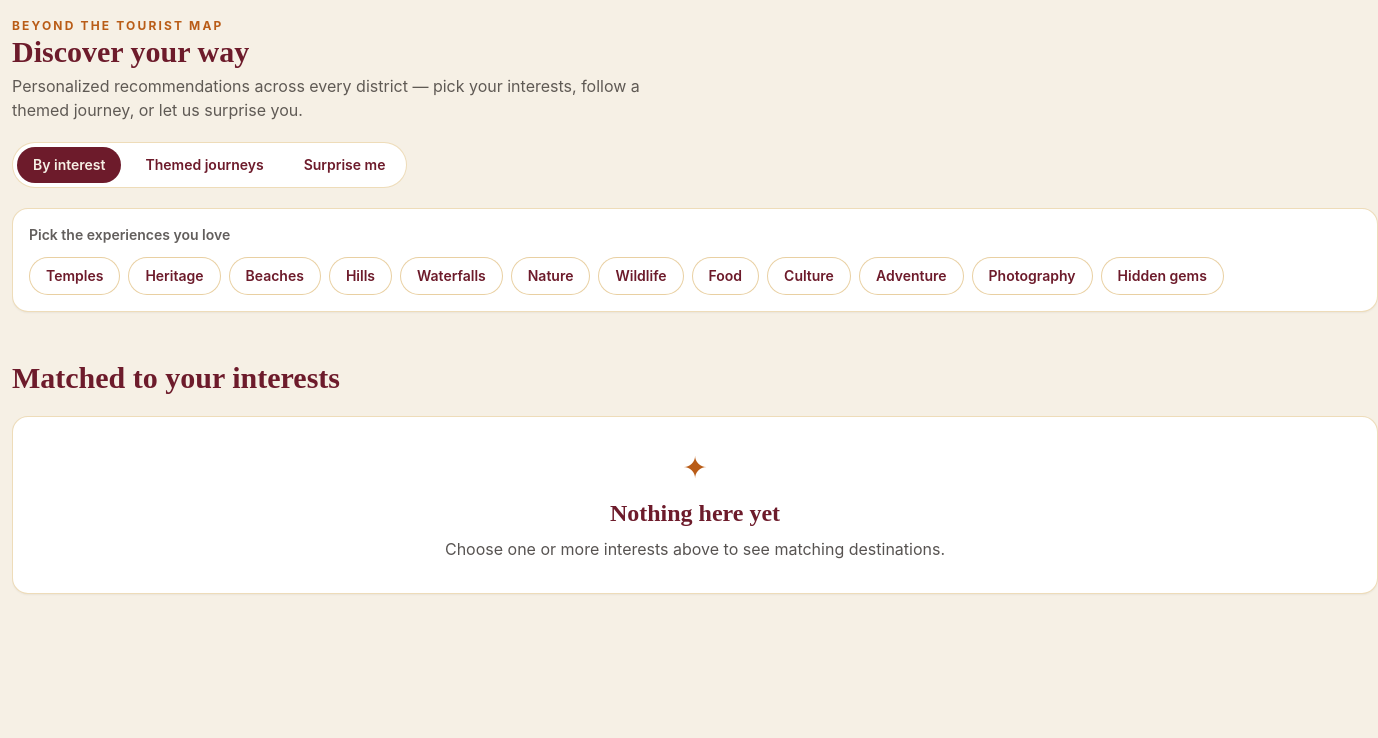
Test: PersonalizedDiscovery › fetches and renders matching destinations when an interest is selected (Req 8.1)
Step 1. Click the button "Nature" → (551, 276), box [511,257,590,295]
(page scrolled)
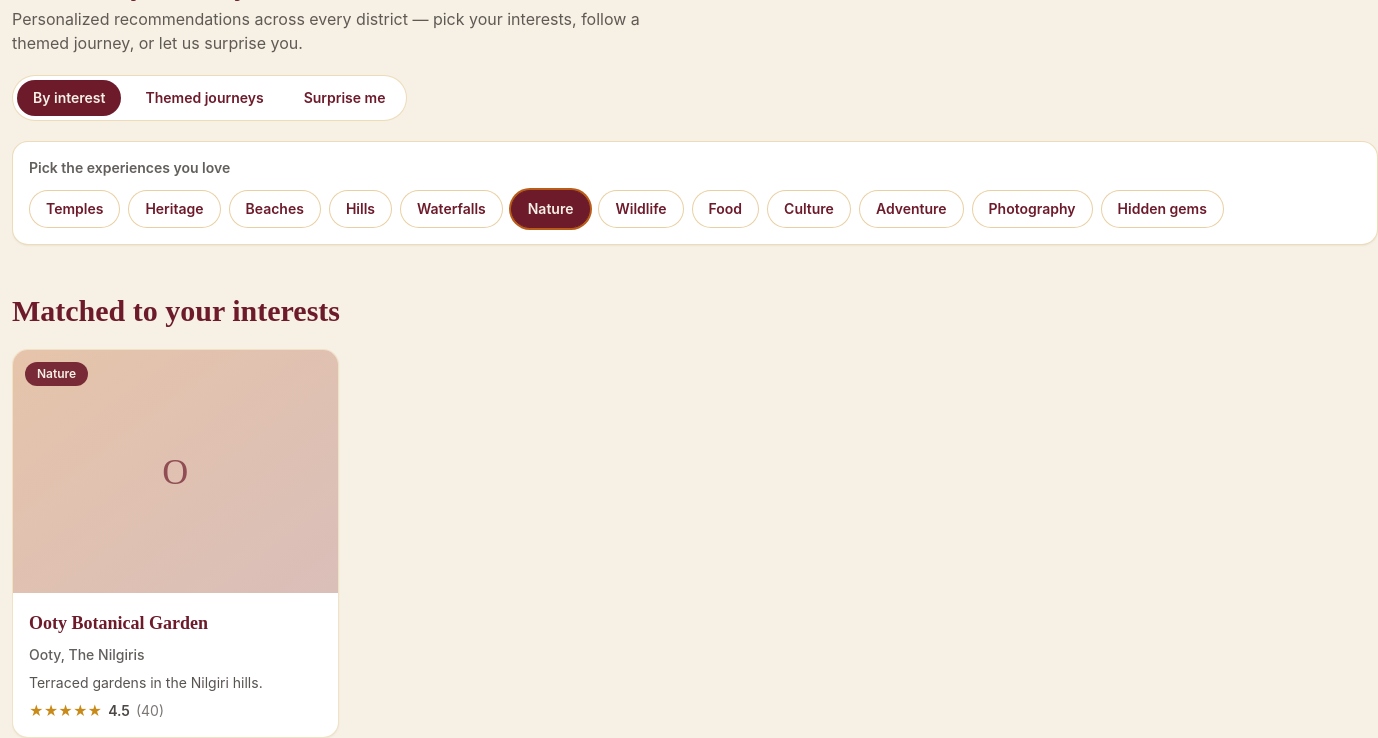
Check: the link "Ooty Botanical Garden" is shown, box [12,349,338,737]
